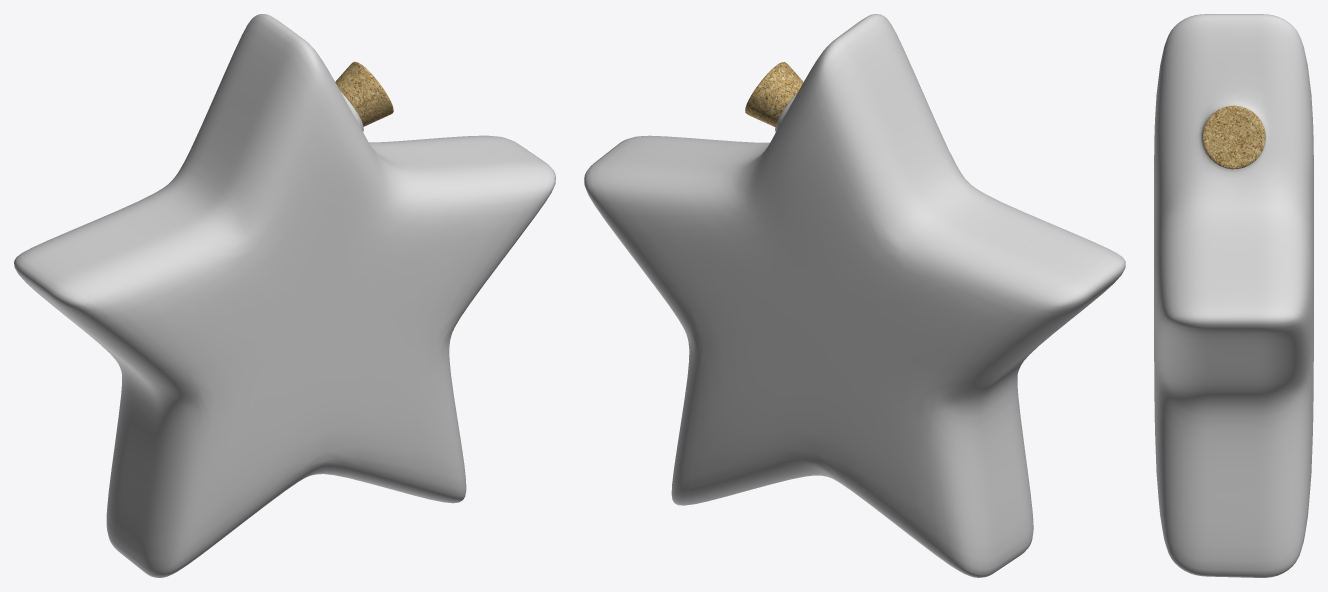
Rendered from star_end_01.fbx.
The picture shows the model from 3 angles, left to right: view 1: azimuth 30°, elevation 25°; view 2: azimuth 150°, elevation 25°; view 3: azimuth 270°, elevation 25°; orthographic projection. The views are drawn at different scales.
Visible parts, largest first — view 1: Star, Star_Cork; view 2: Star, Star_Cork; view 3: Star, Star_Cork.
Part boxes in pixels (box(x1,y1,x2,y2)): Star: box(14, 14, 555, 577); Star_Cork: box(335, 61, 393, 126); Star: box(584, 14, 1125, 577); Star_Cork: box(745, 62, 803, 126); Star: box(1154, 14, 1313, 577); Star_Cork: box(1202, 105, 1265, 169).
Bounding box in the file's own units: 6.29 × 6 × 1.77.
Materials: 3 (1 with a texture image).
